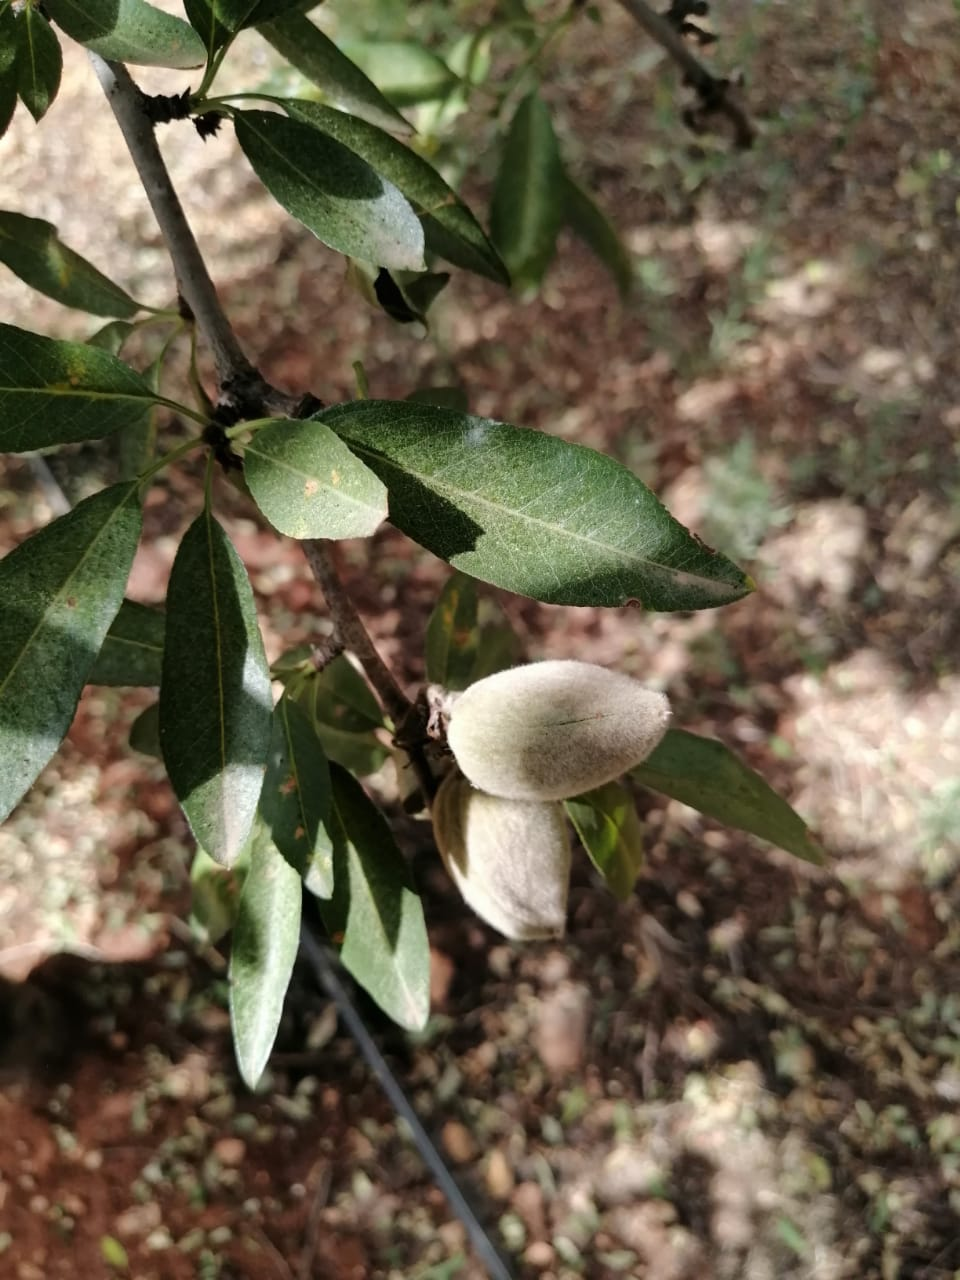acariens: (301, 402, 755, 611), (1, 477, 144, 827), (159, 504, 274, 868)
